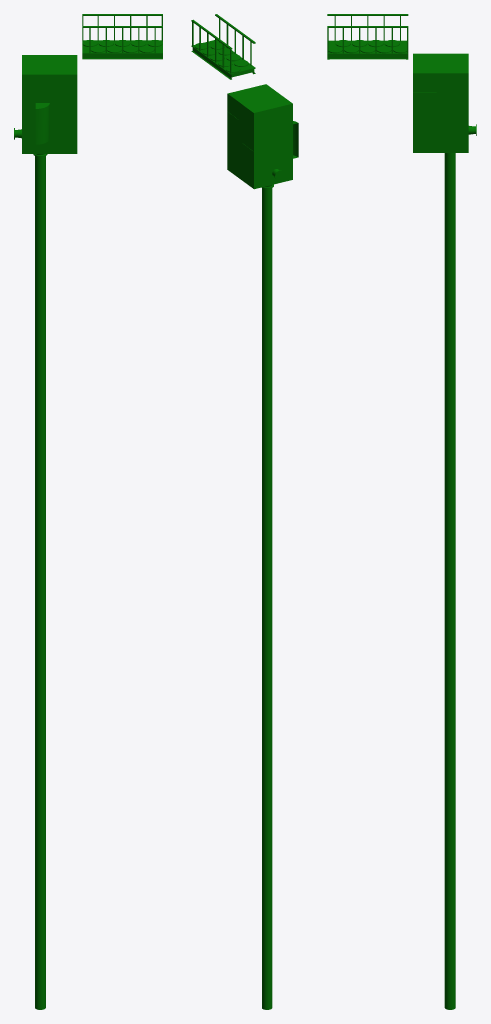
Rendered from Image-1710907681859-2280626826416_50-PH50B.fbx.
3 renders of one model, left to right at view 1: azimuth 90°, elevation 25°; view 2: azimuth 210°, elevation 25°; view 3: azimuth 270°, elevation 25°, orthographic. The views are drawn at different scales.
Parts seen in each view (by area): view 1: CYLINDER 1 of SUBEQUIPMENT /50-PH50B-PRIM, BOX 1 of SUBEQUIPMENT 9 of EQUIPMENT /50-PH50B, RTORUS 1 of SUBEQUIPMENT /50-PH50B-MAIN, BOX 7 of SUBEQUIPMENT /50-PH50B-RACK; view 2: CYLINDER 1 of SUBEQUIPMENT /50-PH50B-PRIM, BOX 1 of SUBEQUIPMENT 9 of EQUIPMENT /50-PH50B, BOX 1 of SUBEQUIPMENT /50-PH50B-RACK; view 3: CYLINDER 1 of SUBEQUIPMENT /50-PH50B-PRIM, BOX 1 of SUBEQUIPMENT 9 of EQUIPMENT /50-PH50B, BOX 2 of SUBEQUIPMENT /50-PH50B-PRIM, BOX 3 of SUBEQUIPMENT /50-PH50B-PRIM, BOX 4 of SUBEQUIPMENT /50-PH50B-PRIM, BOX 8 of SUBEQUIPMENT /50-PH50B-RACK, BOX 1 of SUBEQUIPMENT /50-PH50B-RACK.
Part boxes in pixels (left/top/right/bottom): CYLINDER 1 of SUBEQUIPMENT /50-PH50B-PRIM: left=35, top=154, right=45, bottom=1009; BOX 1 of SUBEQUIPMENT 9 of EQUIPMENT /50-PH50B: left=22, top=55, right=77, bottom=153; RTORUS 1 of SUBEQUIPMENT /50-PH50B-MAIN: left=35, top=103, right=49, bottom=144; BOX 7 of SUBEQUIPMENT /50-PH50B-RACK: left=82, top=54, right=162, bottom=58; CYLINDER 1 of SUBEQUIPMENT /50-PH50B-PRIM: left=262, top=186, right=272, bottom=1009; BOX 1 of SUBEQUIPMENT 9 of EQUIPMENT /50-PH50B: left=227, top=84, right=292, bottom=189; BOX 1 of SUBEQUIPMENT /50-PH50B-RACK: left=191, top=40, right=255, bottom=74; CYLINDER 1 of SUBEQUIPMENT /50-PH50B-PRIM: left=444, top=153, right=455, bottom=1009; BOX 1 of SUBEQUIPMENT 9 of EQUIPMENT /50-PH50B: left=413, top=53, right=468, bottom=152; BOX 2 of SUBEQUIPMENT /50-PH50B-PRIM: left=445, top=113, right=468, bottom=134; BOX 3 of SUBEQUIPMENT /50-PH50B-PRIM: left=445, top=73, right=468, bottom=90; BOX 4 of SUBEQUIPMENT /50-PH50B-PRIM: left=413, top=92, right=436, bottom=109; BOX 8 of SUBEQUIPMENT /50-PH50B-RACK: left=327, top=54, right=408, bottom=58; BOX 1 of SUBEQUIPMENT /50-PH50B-RACK: left=327, top=40, right=408, bottom=54.
Size of the model in its own units: 2.56 by 6.22 by 45.44.
